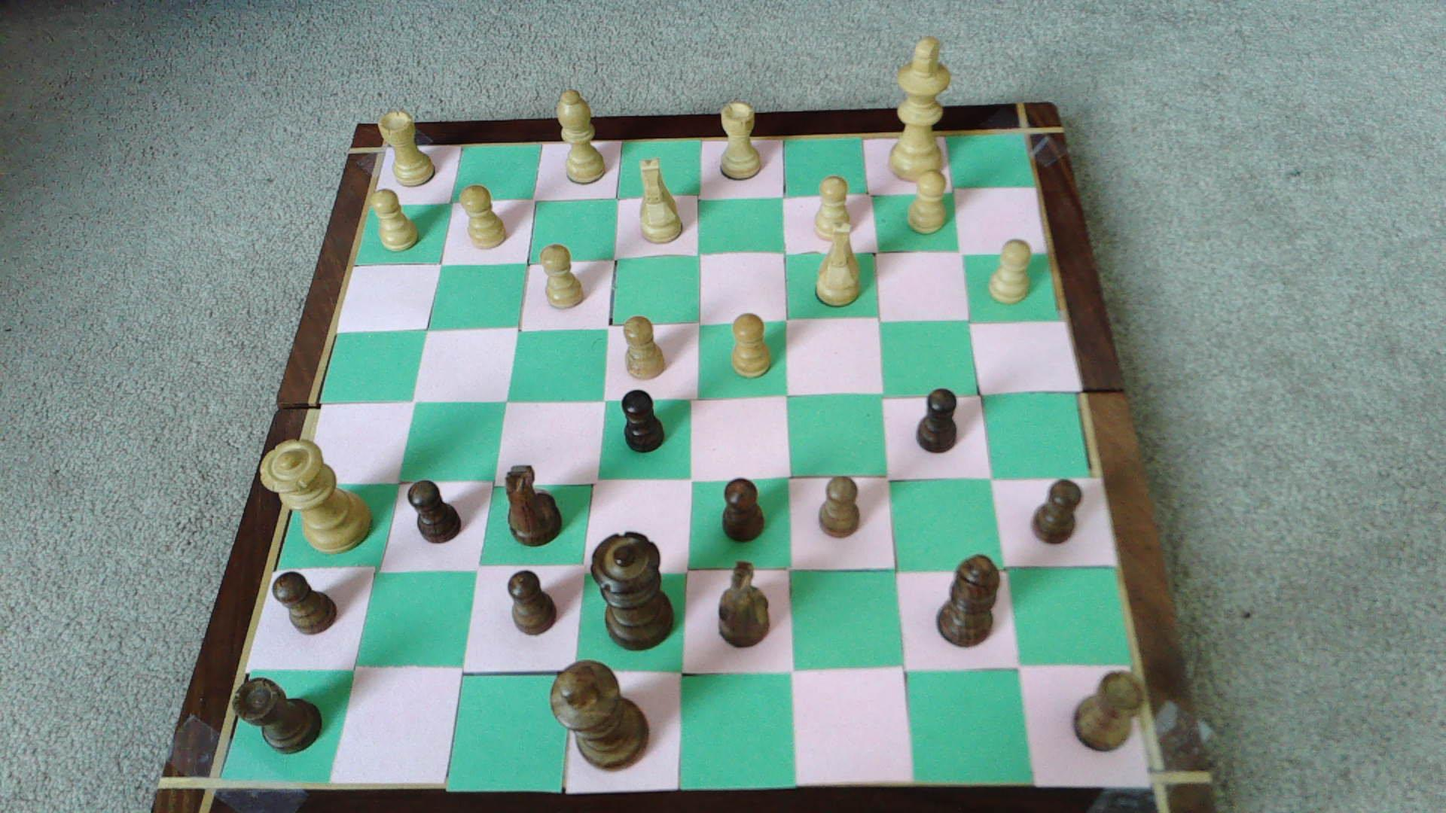dark_piece: (551, 660, 648, 769), (591, 531, 673, 648), (233, 678, 322, 752), (937, 555, 1000, 646), (1075, 671, 1144, 751), (505, 465, 561, 546), (718, 561, 769, 646), (273, 572, 337, 633), (408, 481, 462, 543), (1031, 480, 1082, 543), (508, 571, 556, 634), (621, 390, 664, 452), (917, 387, 958, 452), (722, 478, 764, 541), (820, 477, 860, 537)
white_piece: (262, 440, 371, 551), (888, 35, 952, 181), (556, 90, 606, 184), (378, 111, 436, 187), (638, 157, 683, 243), (720, 100, 763, 180), (815, 231, 860, 306), (460, 185, 508, 249), (372, 189, 419, 251), (541, 244, 586, 308), (988, 239, 1032, 304), (624, 315, 666, 379), (907, 171, 949, 233), (731, 313, 771, 377), (814, 176, 852, 241)
